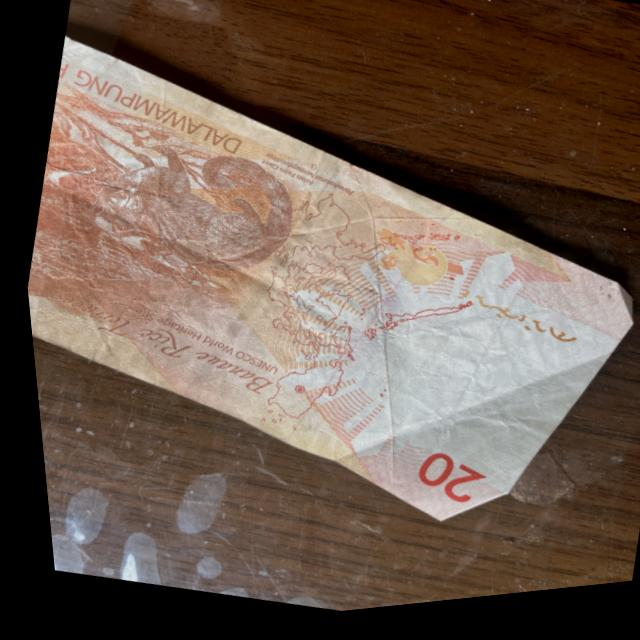20_civet: (72, 127, 302, 311)
20_civet_watermark: (351, 236, 455, 305)
